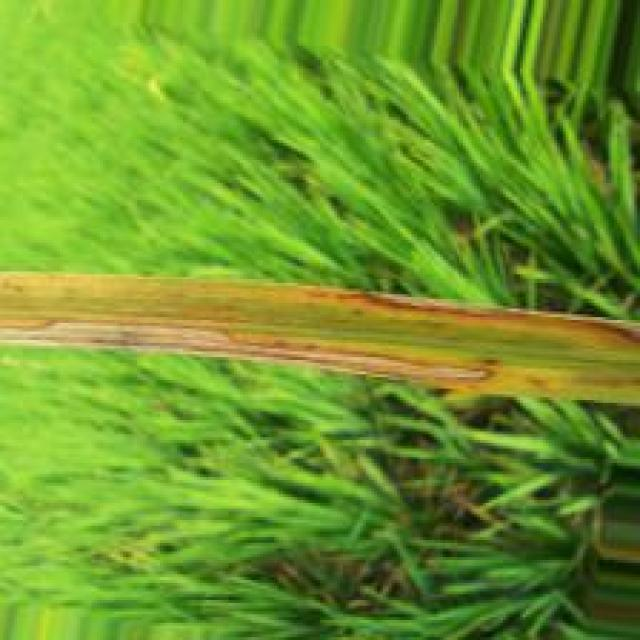Rice Tungro: (0, 317, 497, 388), (291, 287, 639, 353)
